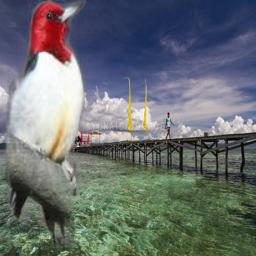Woodpecker: (4, 0, 88, 255)
